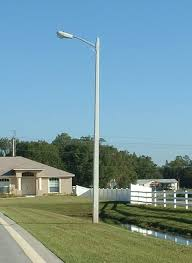light_pole: (90, 36, 102, 226)
